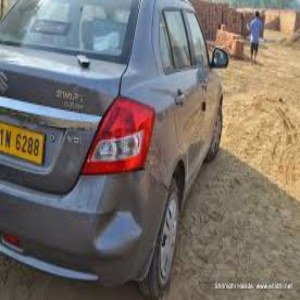bumper: (73, 206, 150, 259)
